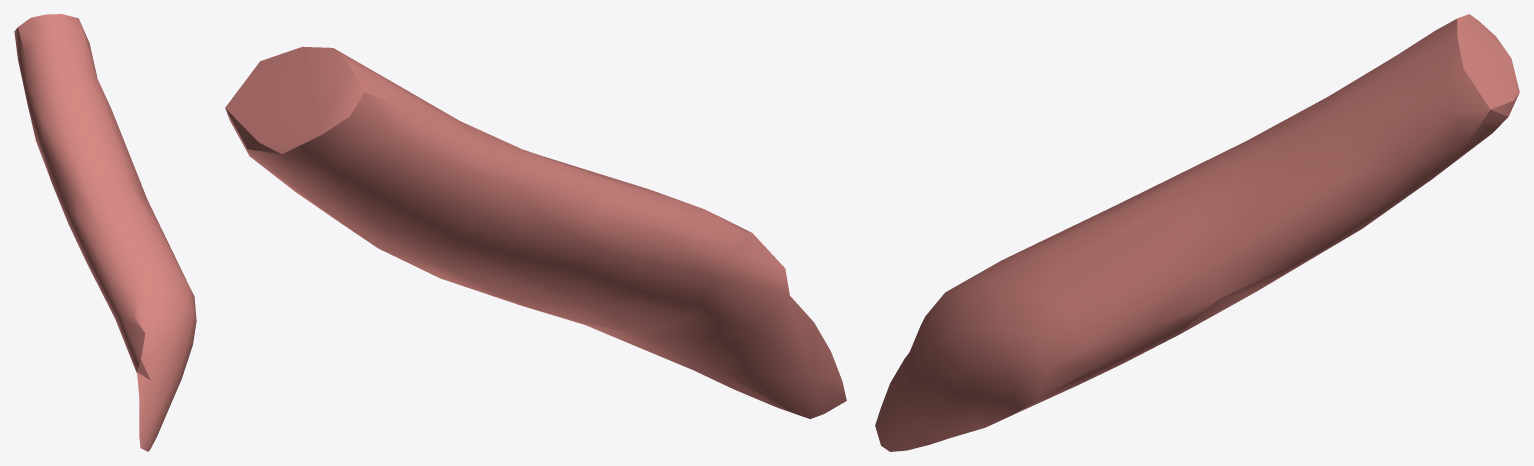
File: fma42584_mm1930.glb
The picture shows the model from 3 angles, left to right: view 1: azimuth 30°, elevation 25°; view 2: azimuth 150°, elevation 25°; view 3: azimuth 270°, elevation 25°; orthographic projection. The views are drawn at different scales.
Visible parts, largest first — view 1: FMA42584_MM1930; view 2: FMA42584_MM1930; view 3: FMA42584_MM1930.
Part boxes in pixels (x1,y1,x2,y2): FMA42584_MM1930: (14, 14, 196, 451); FMA42584_MM1930: (225, 46, 846, 418); FMA42584_MM1930: (875, 14, 1519, 451).
Bounding box in the file's own units: 0.0057 × 0.0128 × 0.0153.
